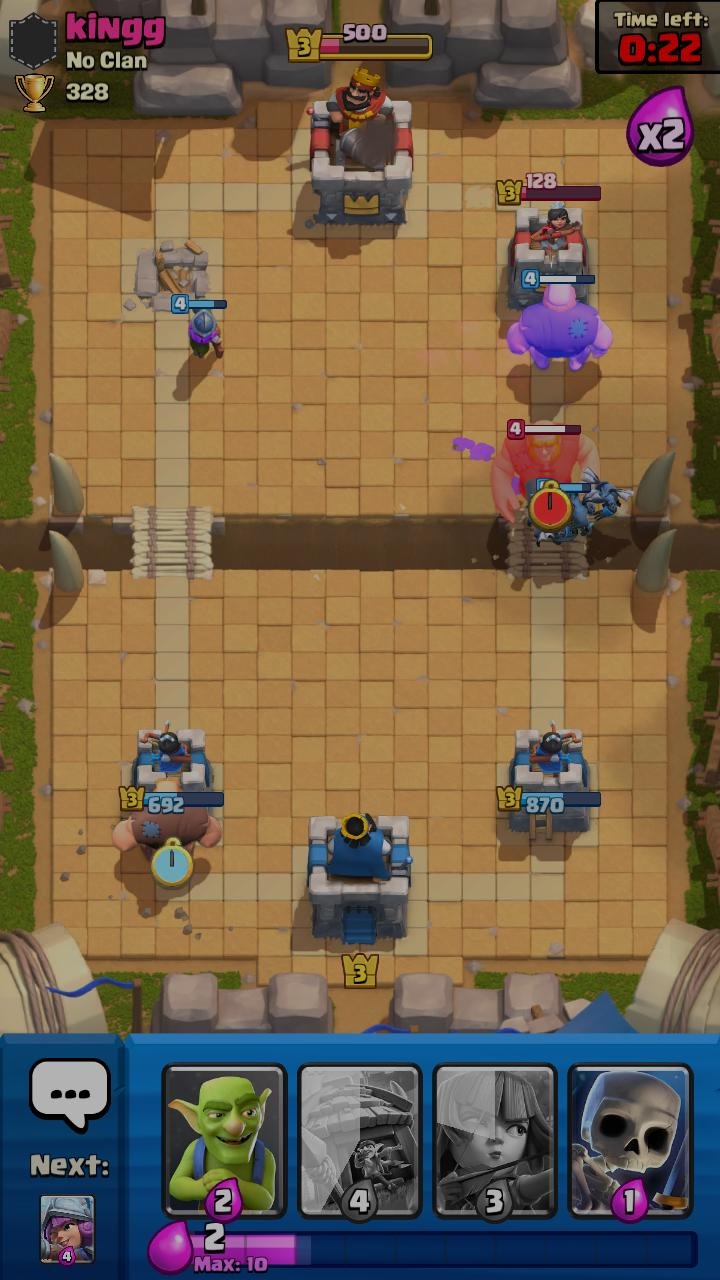ally: (507, 269, 613, 371), (113, 779, 222, 864), (171, 294, 227, 359), (536, 478, 594, 536), (582, 466, 636, 521), (526, 494, 577, 542), (533, 527, 577, 547)
enemy: (491, 419, 600, 523)
